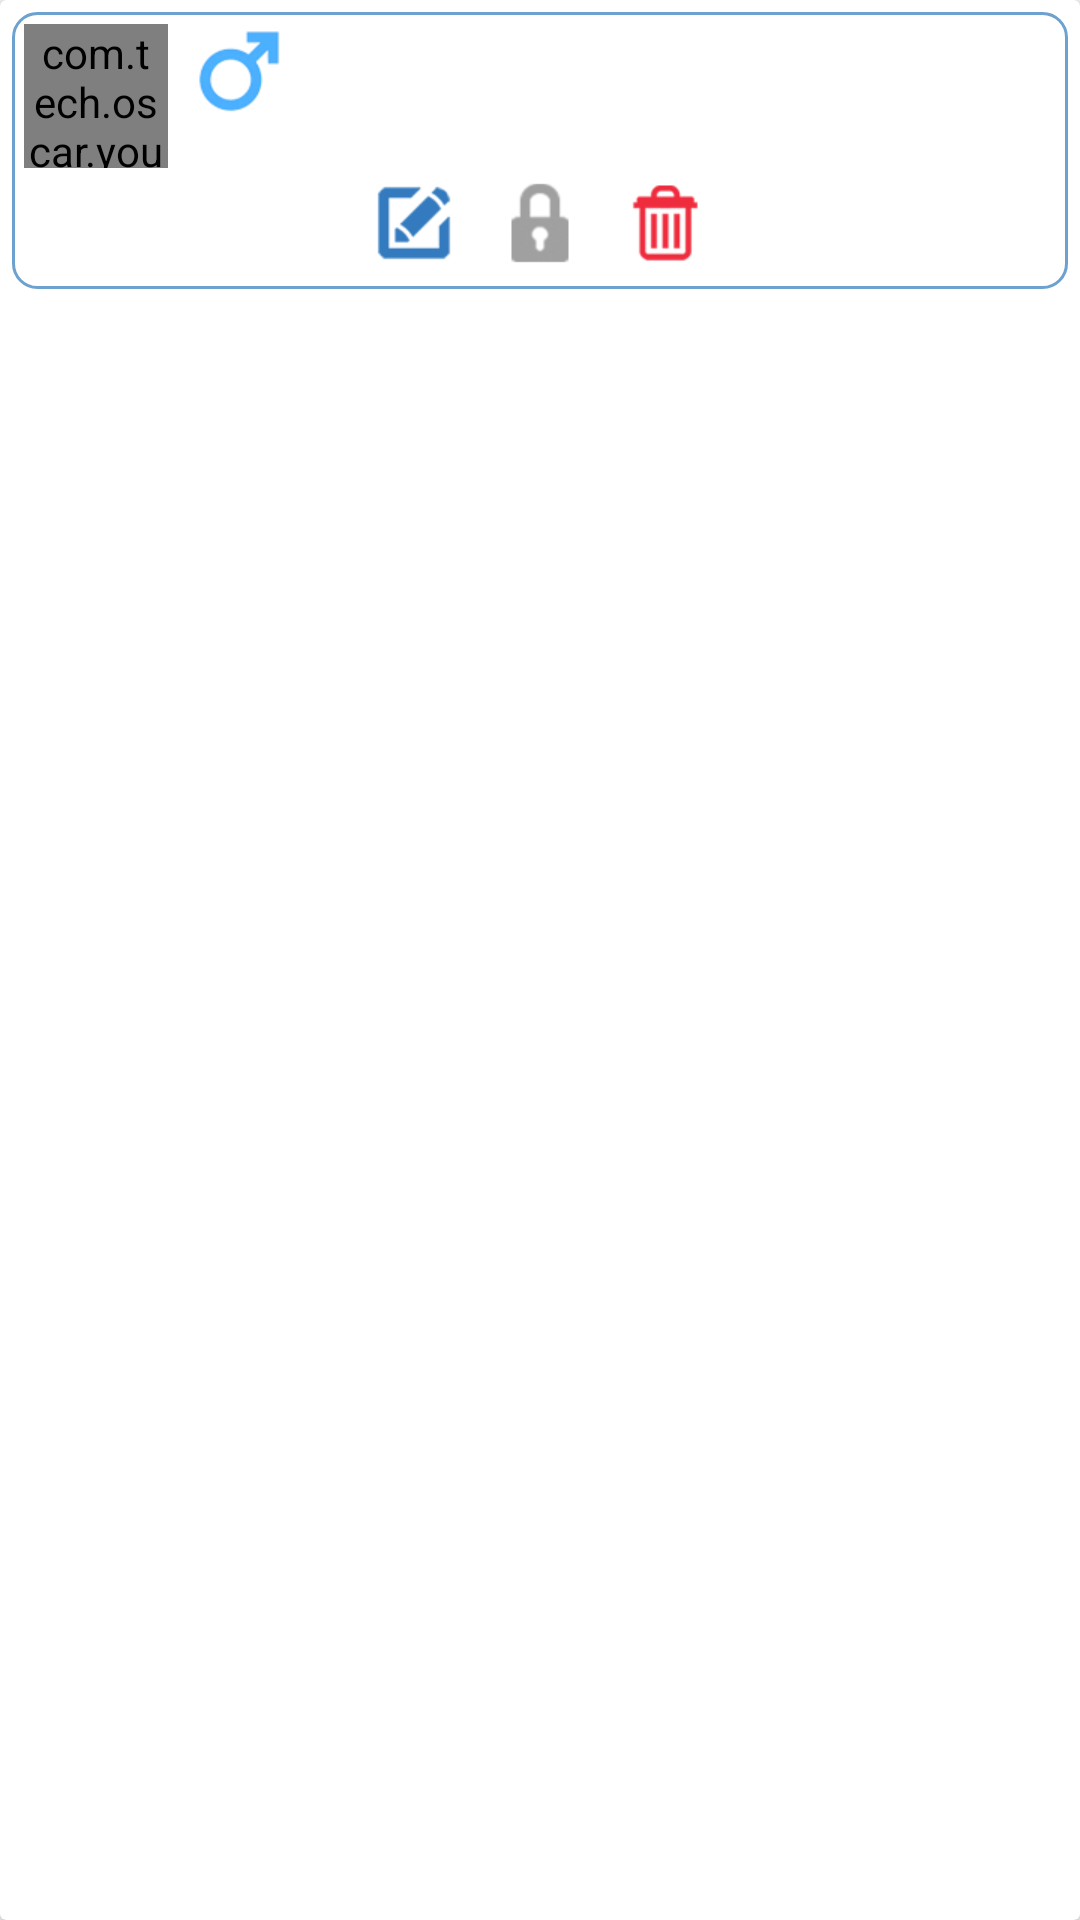

Named icons in this screenshot (1080×1920) and their bounding boxes, box(x1, y1, x2, y2):
delete: box(633, 185, 698, 261)
edit: box(378, 186, 451, 259)
lock: box(511, 184, 569, 262)
